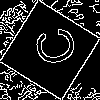C: (25, 25, 78, 70)
